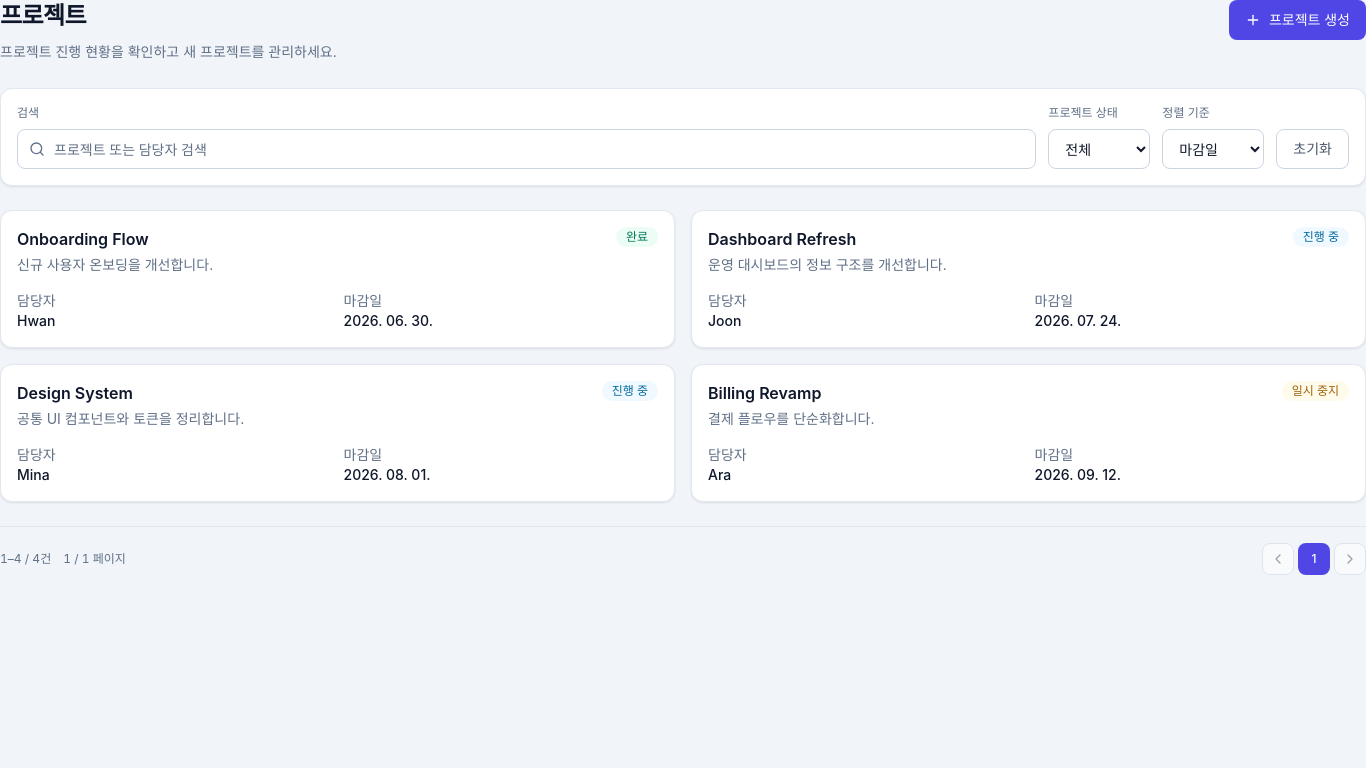
it: ProjectsPage › 사용자 입력으로 프로젝트를 생성하고 목록에 반영한다
The image size is (1366, 768).
Expected: the link "Design System" is shown, [17,383,133,403]
Click the button "프로젝트 생성": [1298, 20] box [1229,0,1365,40]
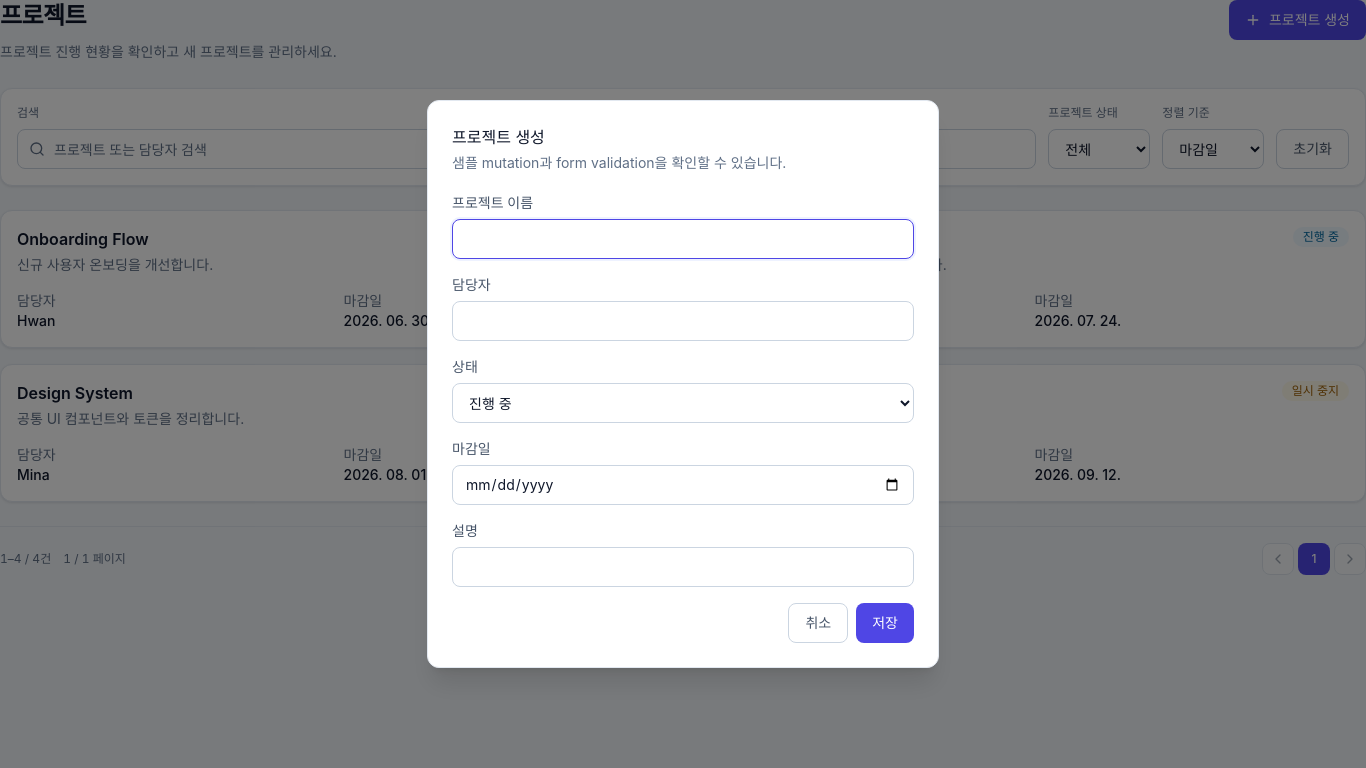
In the field labelled "프로젝트 이름": [683, 239] box [452,219,914,259], type "Search Experience"
In the field labelled "담당자": [683, 321] box [452,301,914,341], type "Nari"
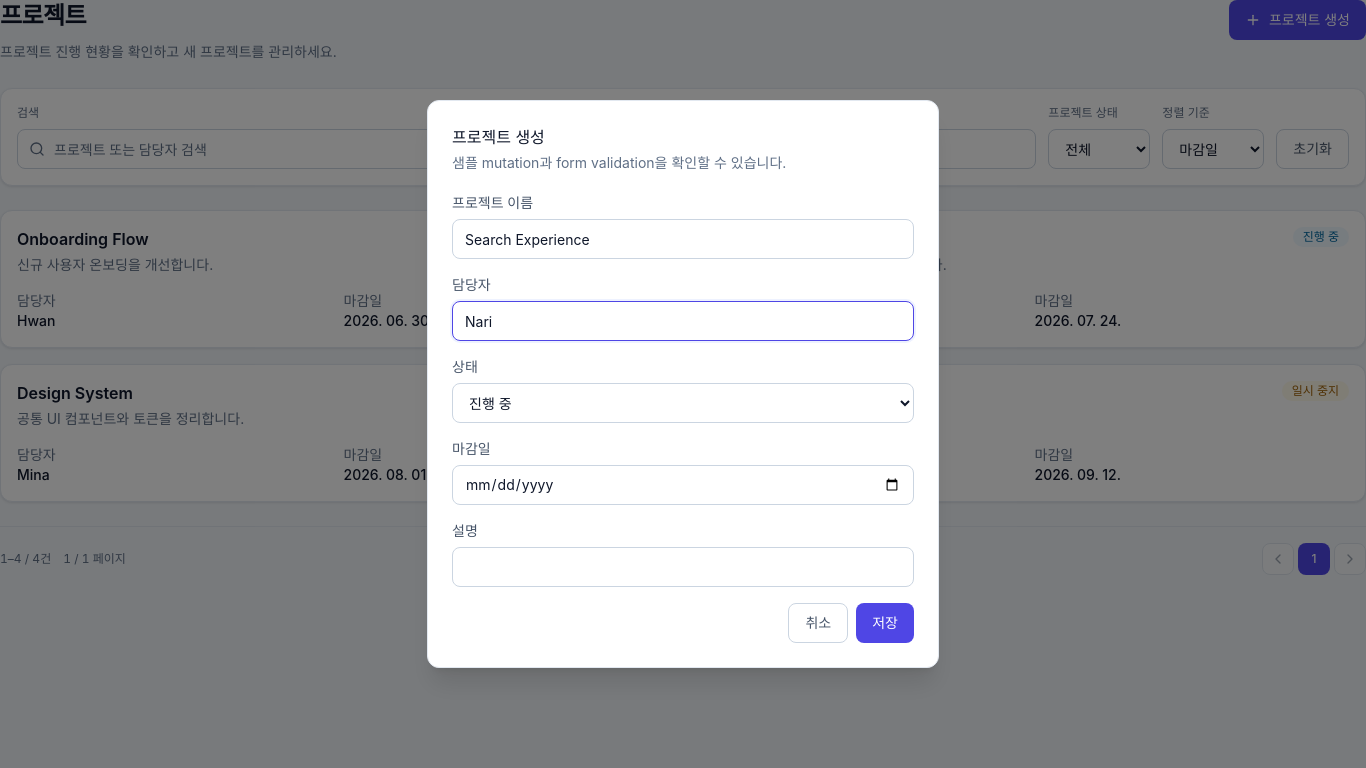
Select "진행 중" in the dropdown labelled "상태": [683, 403] box [452,383,914,423]
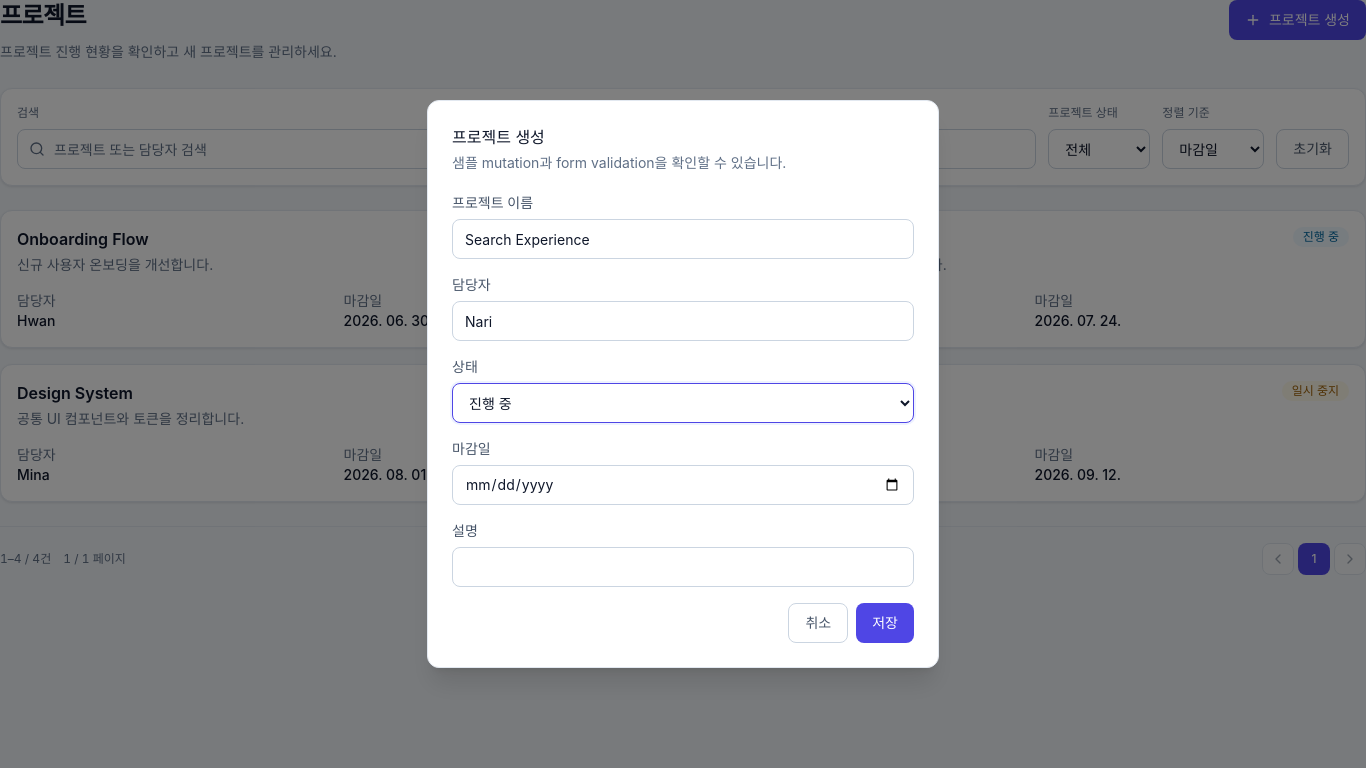
In the date field labelled "마감일": [683, 485] box [452,465,914,505], type "2026-10-01"
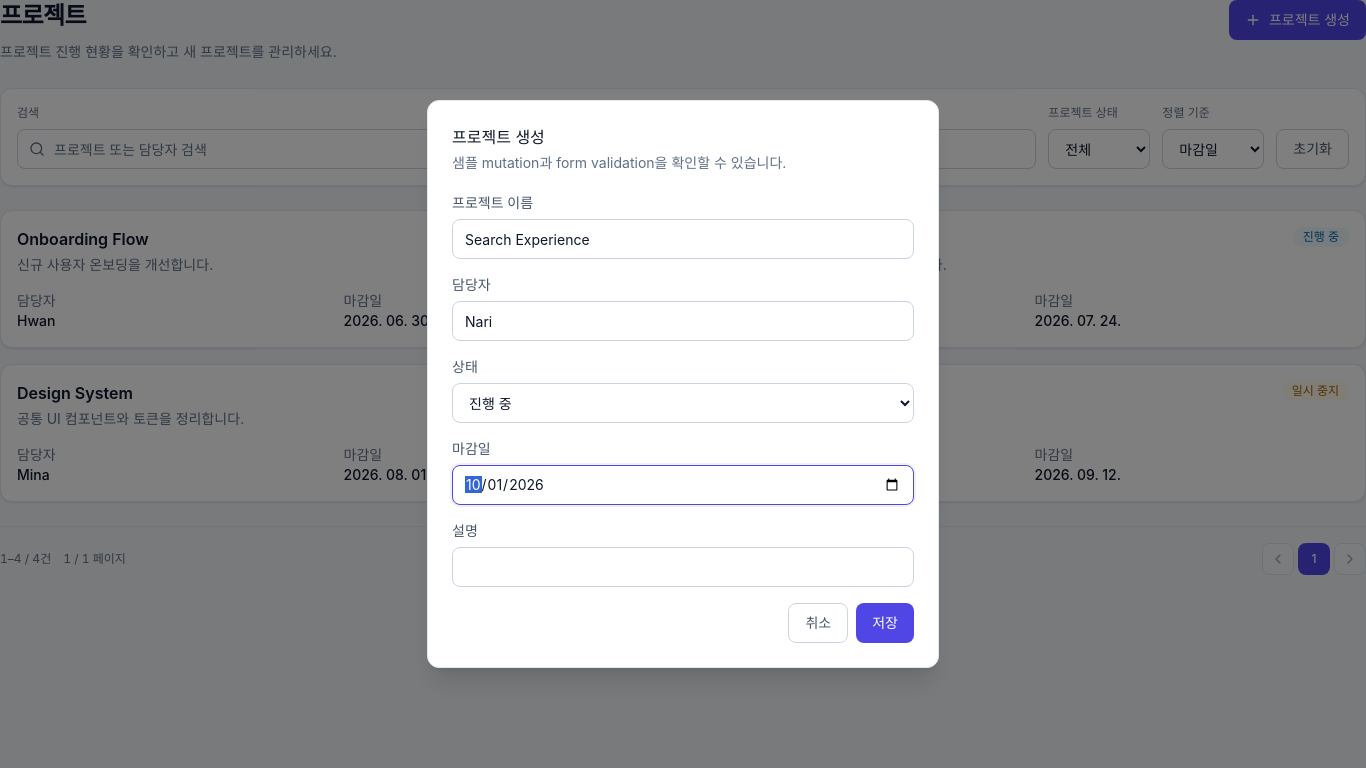
In the field labelled "설명": [683, 567] box [452,547,914,587], type "검색 경험을 개선합니다."
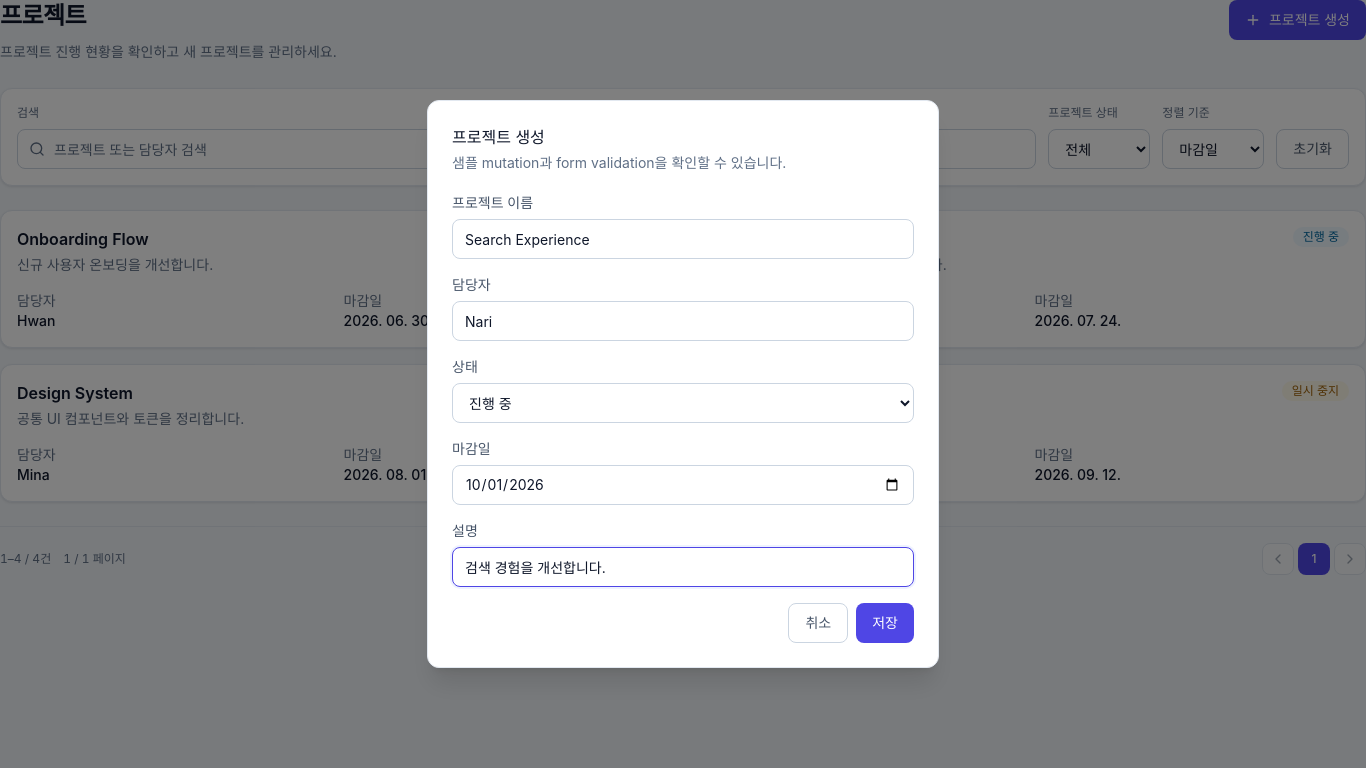
Click the button "저장": [885, 623] box [856,603,914,643]
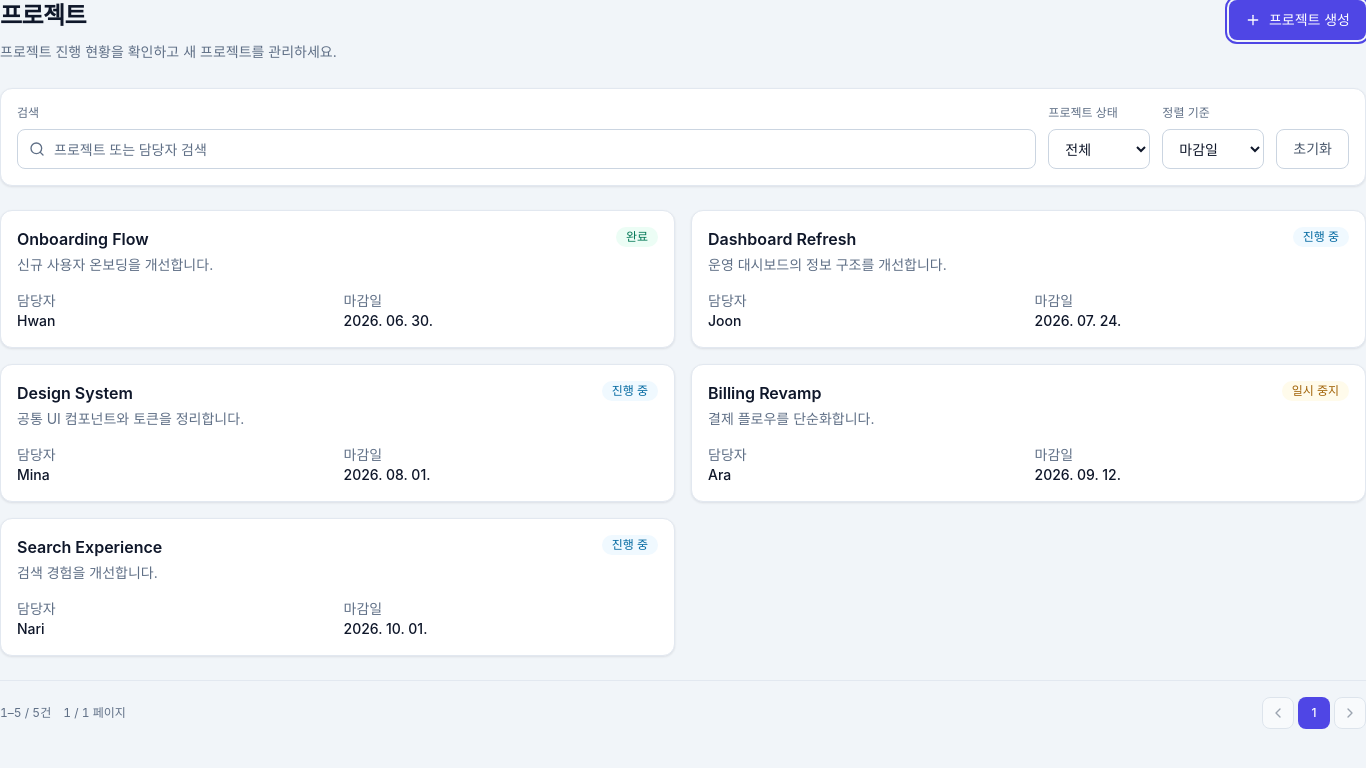
Expected: the link "Search Experience" is shown, [17,537,162,557]
